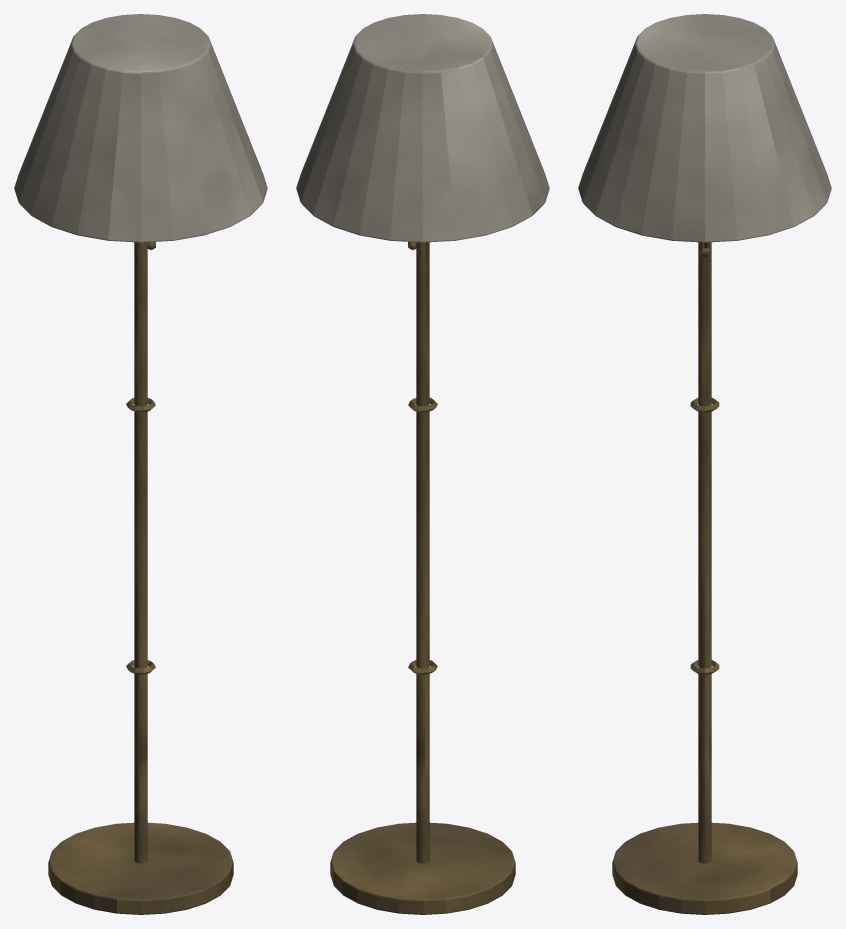
Rendered from L06_floor_lamp.glb.
3 renders of one model, left to right at view 1: azimuth 30°, elevation 25°; view 2: azimuth 150°, elevation 25°; view 3: azimuth 270°, elevation 25°, orthographic.
Visible parts, largest first — view 1: L06_floor_lamp; view 2: L06_floor_lamp; view 3: L06_floor_lamp.
Boxes of the visible parts, <box> form: L06_floor_lamp: <box>14,14,267,914</box>; L06_floor_lamp: <box>296,14,549,914</box>; L06_floor_lamp: <box>578,14,831,914</box>.
Bounding box in the file's own units: 0.4407 × 1.6 × 0.4407.
3 materials, 3 textured.
